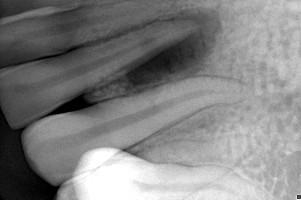Furcation Involvement: (126, 7, 223, 87)
